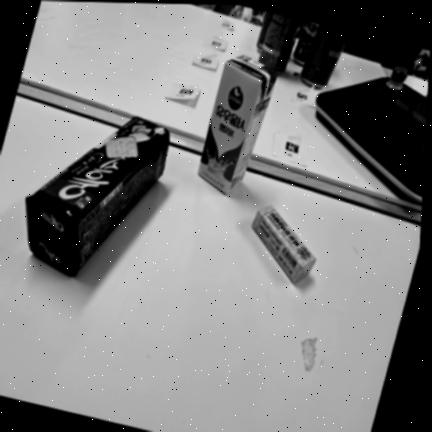cracker_ace: (26, 118, 170, 276)
gum_yellow: (252, 205, 316, 284)
milk_blue: (198, 56, 278, 195)
